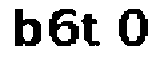0: (120, 5, 152, 50)
6: (45, 6, 81, 50)
b: (9, 6, 41, 49)
t: (83, 10, 101, 51)
